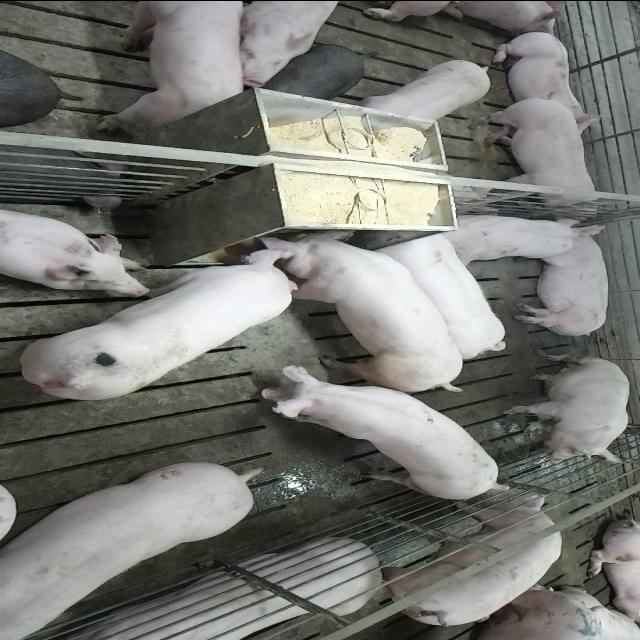Feeding: (17, 242, 303, 402), (246, 222, 466, 388)
Lateral_lying: (33, 539, 379, 640), (511, 221, 611, 339)
Sitting: (503, 354, 633, 464)
Standing: (0, 464, 258, 640), (252, 368, 510, 503), (374, 497, 564, 632), (96, 2, 246, 132), (377, 230, 512, 360), (468, 93, 610, 216), (235, 0, 349, 88), (357, 56, 496, 126), (271, 41, 368, 100)
Sternal_lying: (0, 206, 151, 294), (485, 28, 607, 126), (436, 208, 592, 261)
